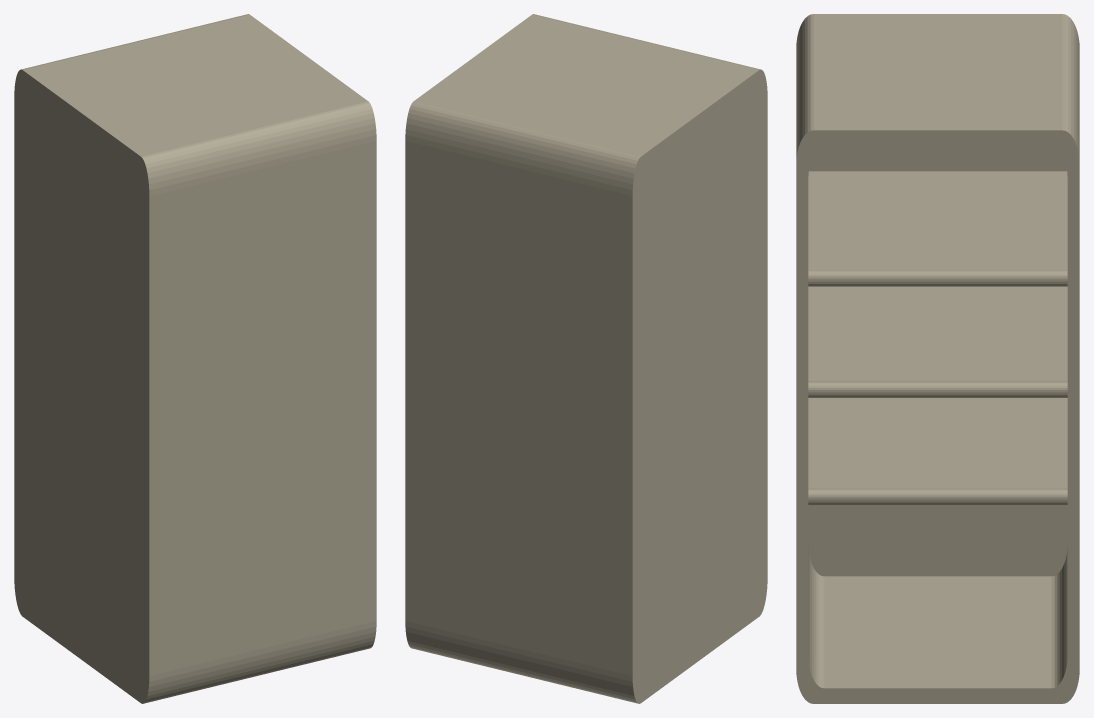
The model's file is fridge1.0.1.fbx.
3 views of the same model, side by side, from view 1: azimuth 30°, elevation 25°; view 2: azimuth 150°, elevation 25°; view 3: azimuth 270°, elevation 25° (orthographic). The views are drawn at different scales.
Parts seen in each view (by area): view 1: Fridge2; view 2: Fridge2; view 3: Fridge2.
Boxes of the visible parts, left/top/right/bottom form: Fridge2: left=14, top=14, right=376, bottom=703; Fridge2: left=405, top=14, right=767, bottom=703; Fridge2: left=796, top=14, right=1079, bottom=703.
Bounding box in the file's own units: 213 × 490 × 219.
